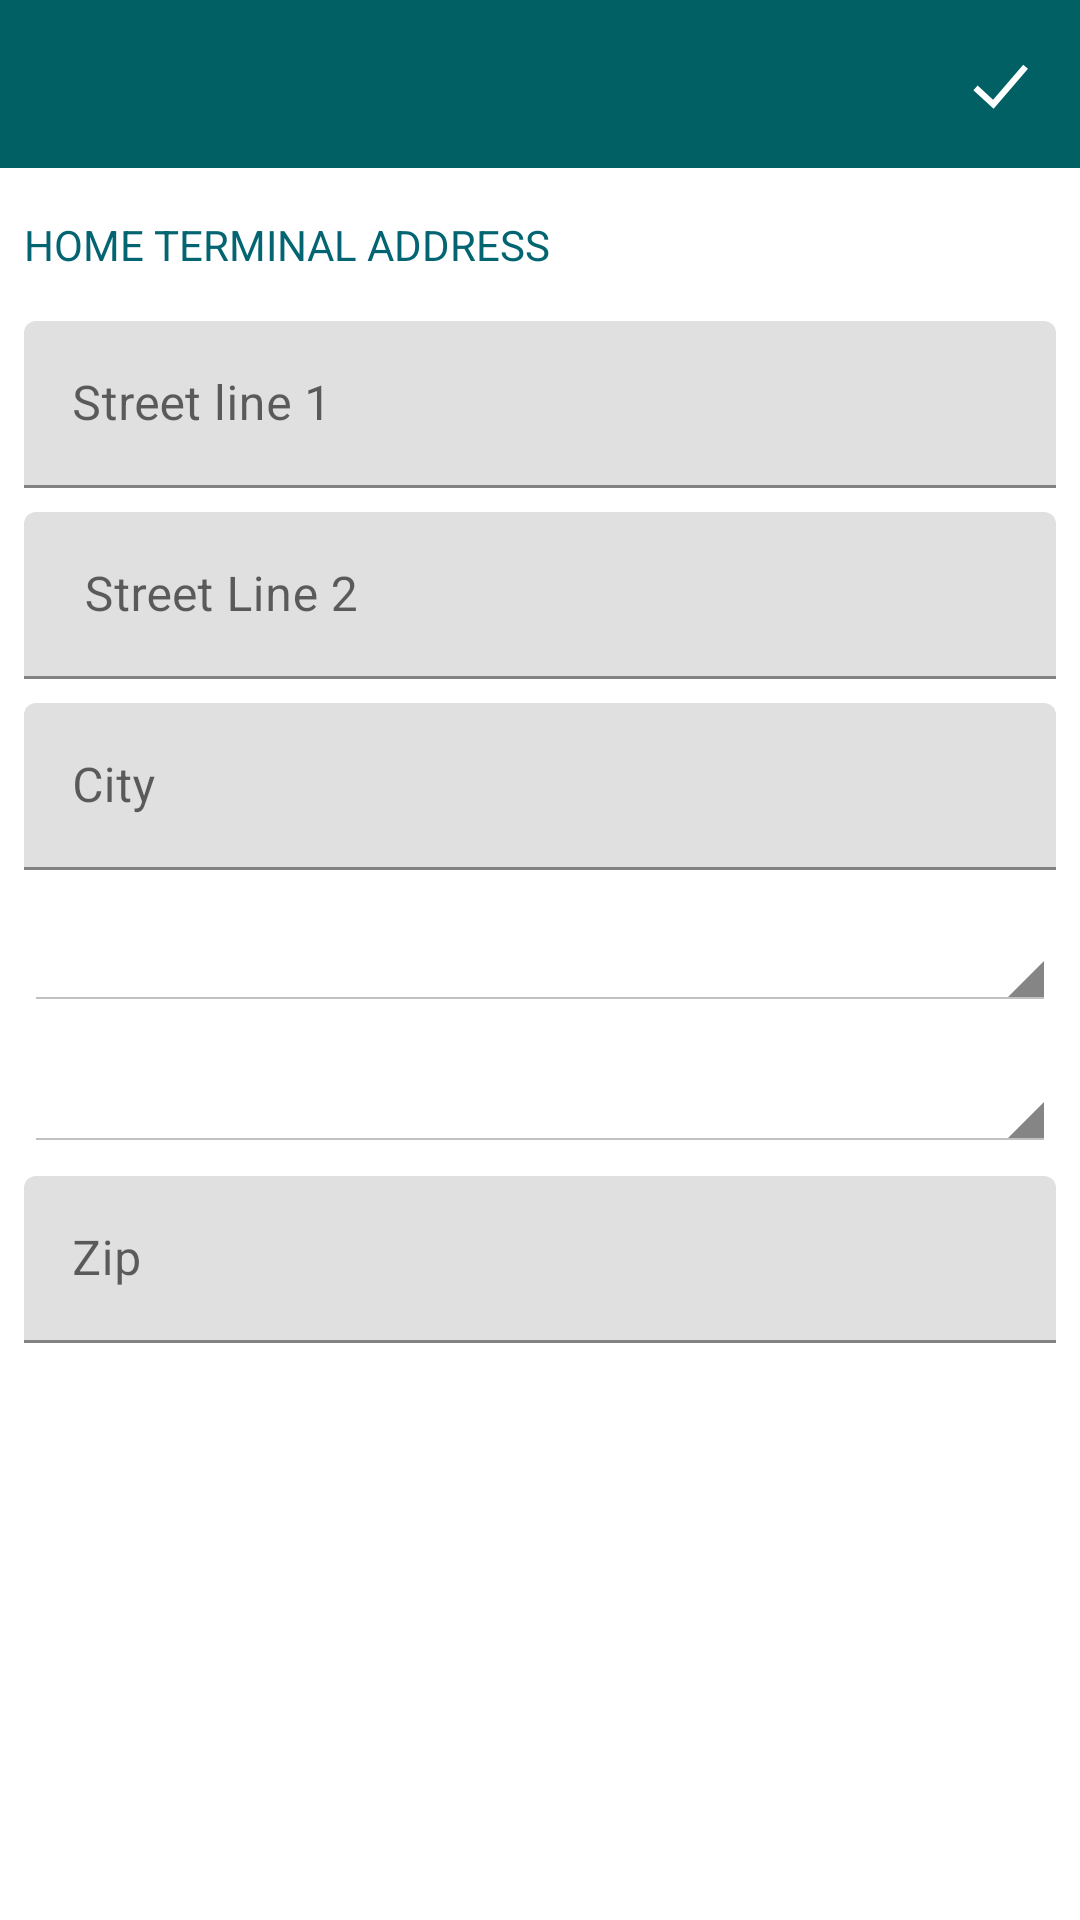

Named icons in this screenshot (1080×1920) and their centers, point (x, y):
tick: point (1000, 87)
